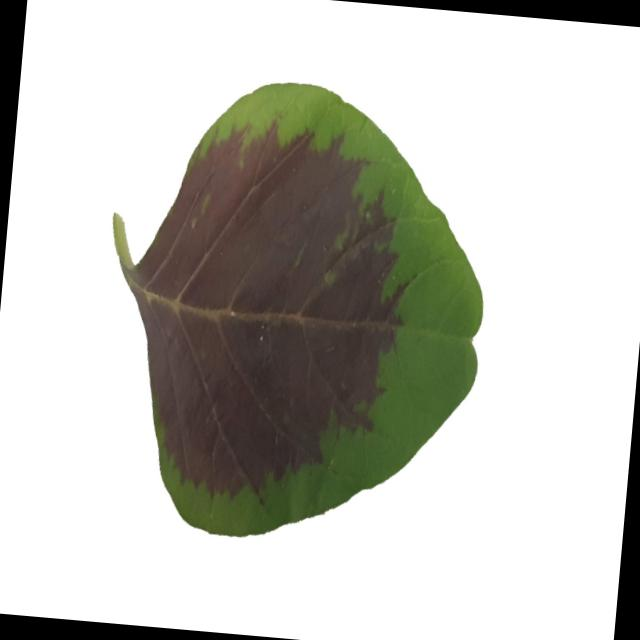Medicinal-Arive Dantu: (80, 66, 500, 554)
